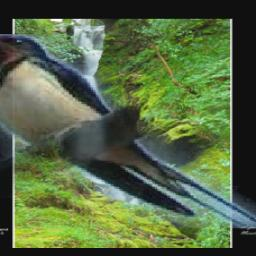Swallow: (0, 35, 256, 229)
